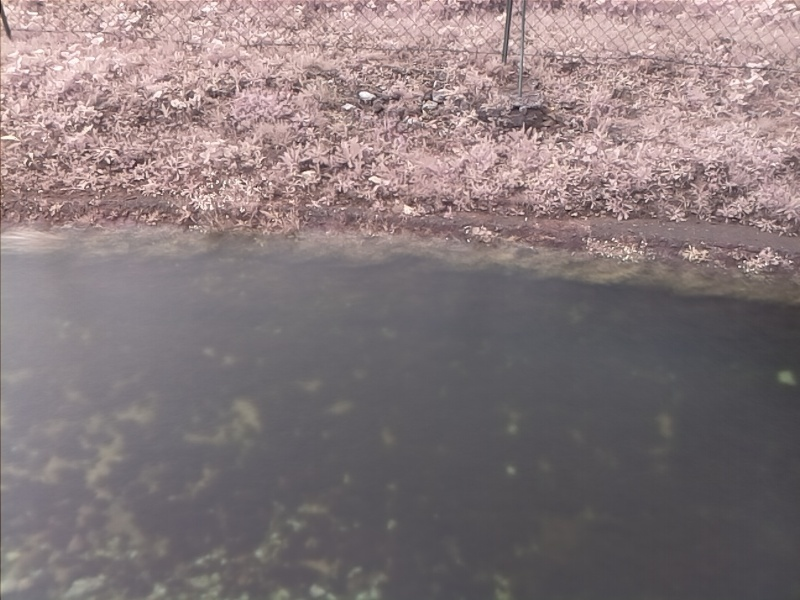Water: (1, 222, 799, 600)
